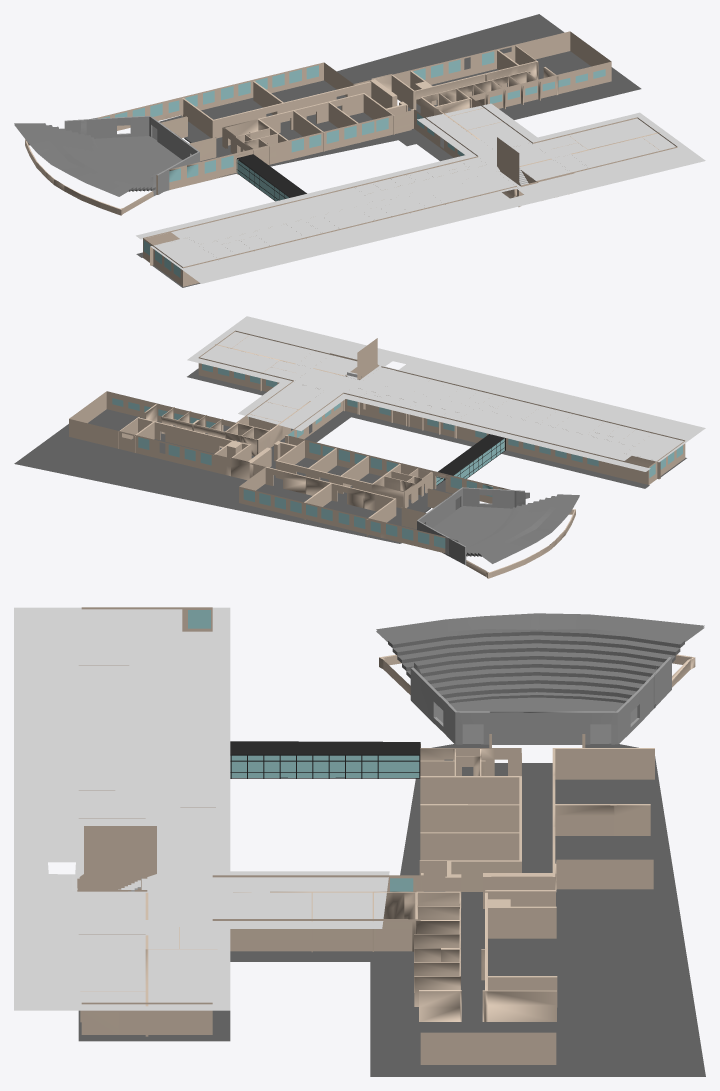
Rendered from ANS Main LVL2.fbx.
The picture shows the model from 3 angles, top to bottom: view 1: azimuth 30°, elevation 25°; view 2: azimuth 150°, elevation 25°; view 3: azimuth 270°, elevation 25°; orthographic projection. The views are drawn at different scales.
Parts seen in each view (by area): view 1: Ceiling2, WallsOutside0.002, WallsInside0.002, Floor2.001, StairsSP2, Ceiling2.002, y.laczenie.002; view 2: Ceiling2, WallsOutside0.002, WallsInside0.002, Floor2.001, StairsSP2, Ceiling2.002, Floor2, y.laczenie.002, Floor2.002; view 3: Ceiling2, Floor2.001, WallsInside0.002, StairsSP2, WallsOutside0.002, Ceiling2.002, y.laczenie.002, Floor2, Floor2.002.
Part boxes in pixels (x1,y1,x2,y2): Ceiling2: (136,112,705,283); WallsOutside0.002: (25,31,677,286); WallsInside0.002: (64,45,659,265); Floor2.001: (94,14,641,183); StairsSP2: (14,123,155,196); Ceiling2.002: (417,103,537,154); y.laczenie.002: (236,154,306,201); Ceiling2: (187,316,705,471); WallsOutside0.002: (69,330,685,578); WallsInside0.002: (118,335,660,564); Floor2.001: (14,409,512,547); StairsSP2: (448,494,579,563); Ceiling2.002: (238,383,344,431); Floor2: (187,368,686,488); y.laczenie.002: (436,434,505,491); Floor2.002: (270,414,350,442); Ceiling2: (14,607,230,1010); Floor2.001: (370,697,705,1076); WallsInside0.002: (77,657,671,1036); StairsSP2: (376,613,704,708); WallsOutside0.002: (81,607,695,1064); Ceiling2.002: (230,871,389,928); y.laczenie.002: (230,741,420,778); Floor2: (78,1010,230,1041); Floor2.002: (230,951,370,961).
Size of the model in its own units: 9377 by 894 by 6244.
